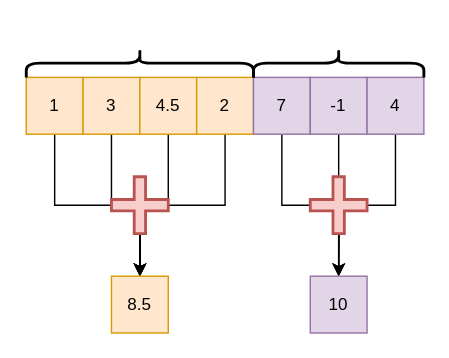
Image size: 449x358. Some labels were removed from this diagram. The shapes that lost their labels are listed below. From the top down, each one's centre as x and y in pixels, then its label:
At point 139,62: "Values on process 0".
At point 338,62: "Values on process 1".
